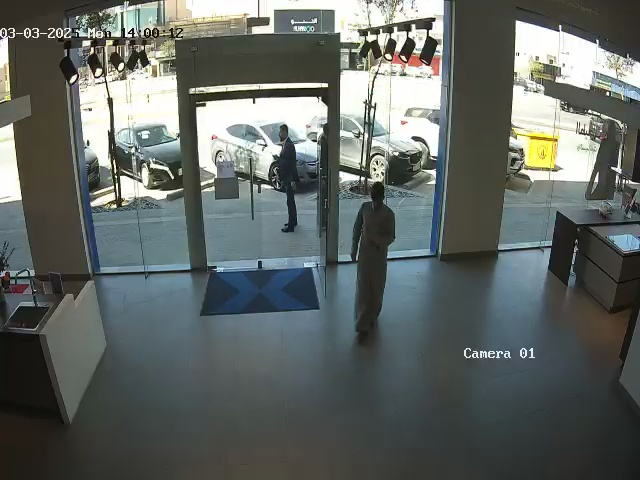employee: (276, 124, 300, 233)
male: (349, 181, 396, 340)
